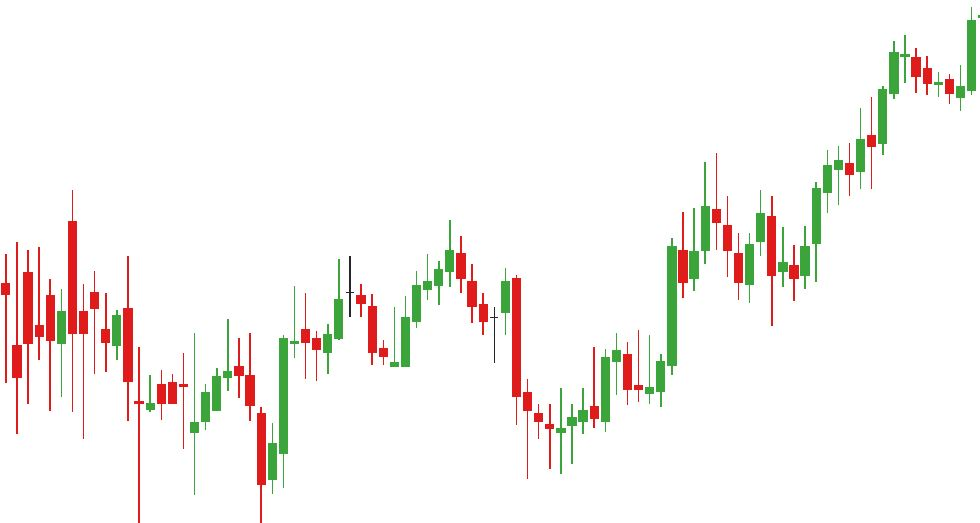buy: (187, 353, 280, 523), (678, 197, 789, 329)
